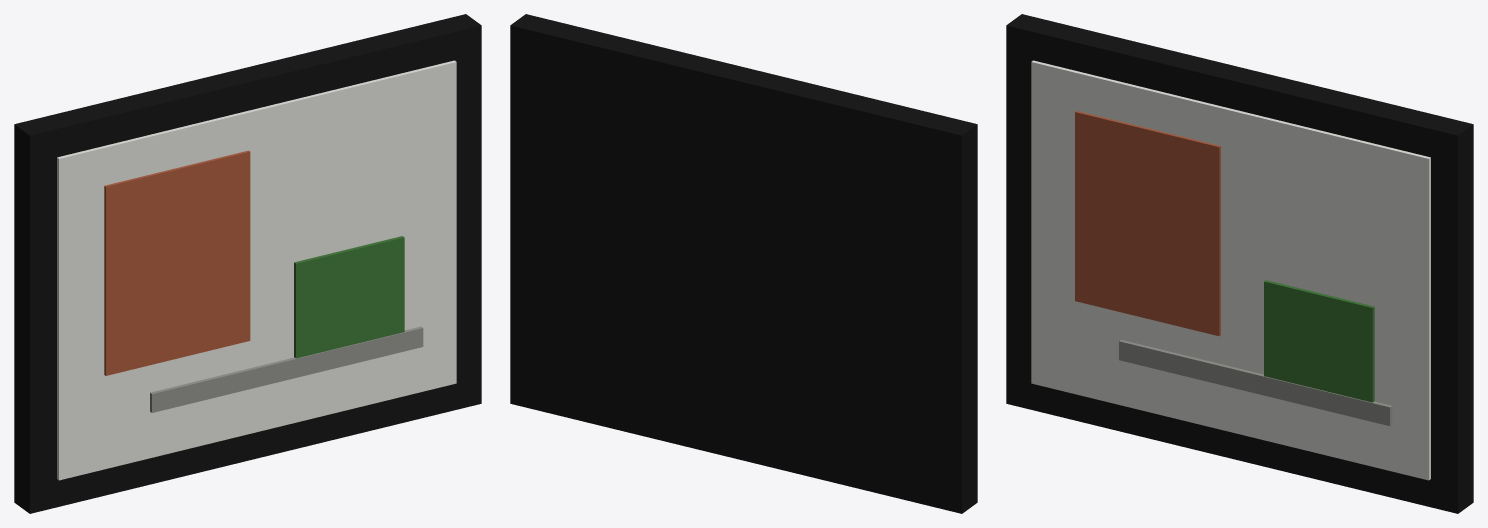
File: wall_picture.glb
3 renders of one model, left to right at view 1: azimuth 30°, elevation 25°; view 2: azimuth 150°, elevation 25°; view 3: azimuth 330°, elevation 25°, orthographic.
Visible parts, largest first — view 1: Part1, Part0, Part2, Part3, Part4; view 2: Part0; view 3: Part1, Part0, Part2, Part3, Part4.
Part boxes in pixels (box(x1,y1,x2,y2)): Part1: box(57, 60, 456, 480); Part0: box(14, 14, 481, 513); Part2: box(104, 150, 250, 375); Part3: box(294, 236, 404, 358); Part4: box(150, 326, 423, 412); Part0: box(510, 14, 977, 513); Part1: box(1031, 60, 1430, 480); Part0: box(1006, 14, 1473, 513); Part2: box(1075, 111, 1220, 336); Part3: box(1264, 280, 1374, 402); Part4: box(1119, 340, 1392, 426).
Bounding box in the file's own units: 0.5 × 0.4 × 0.039.
